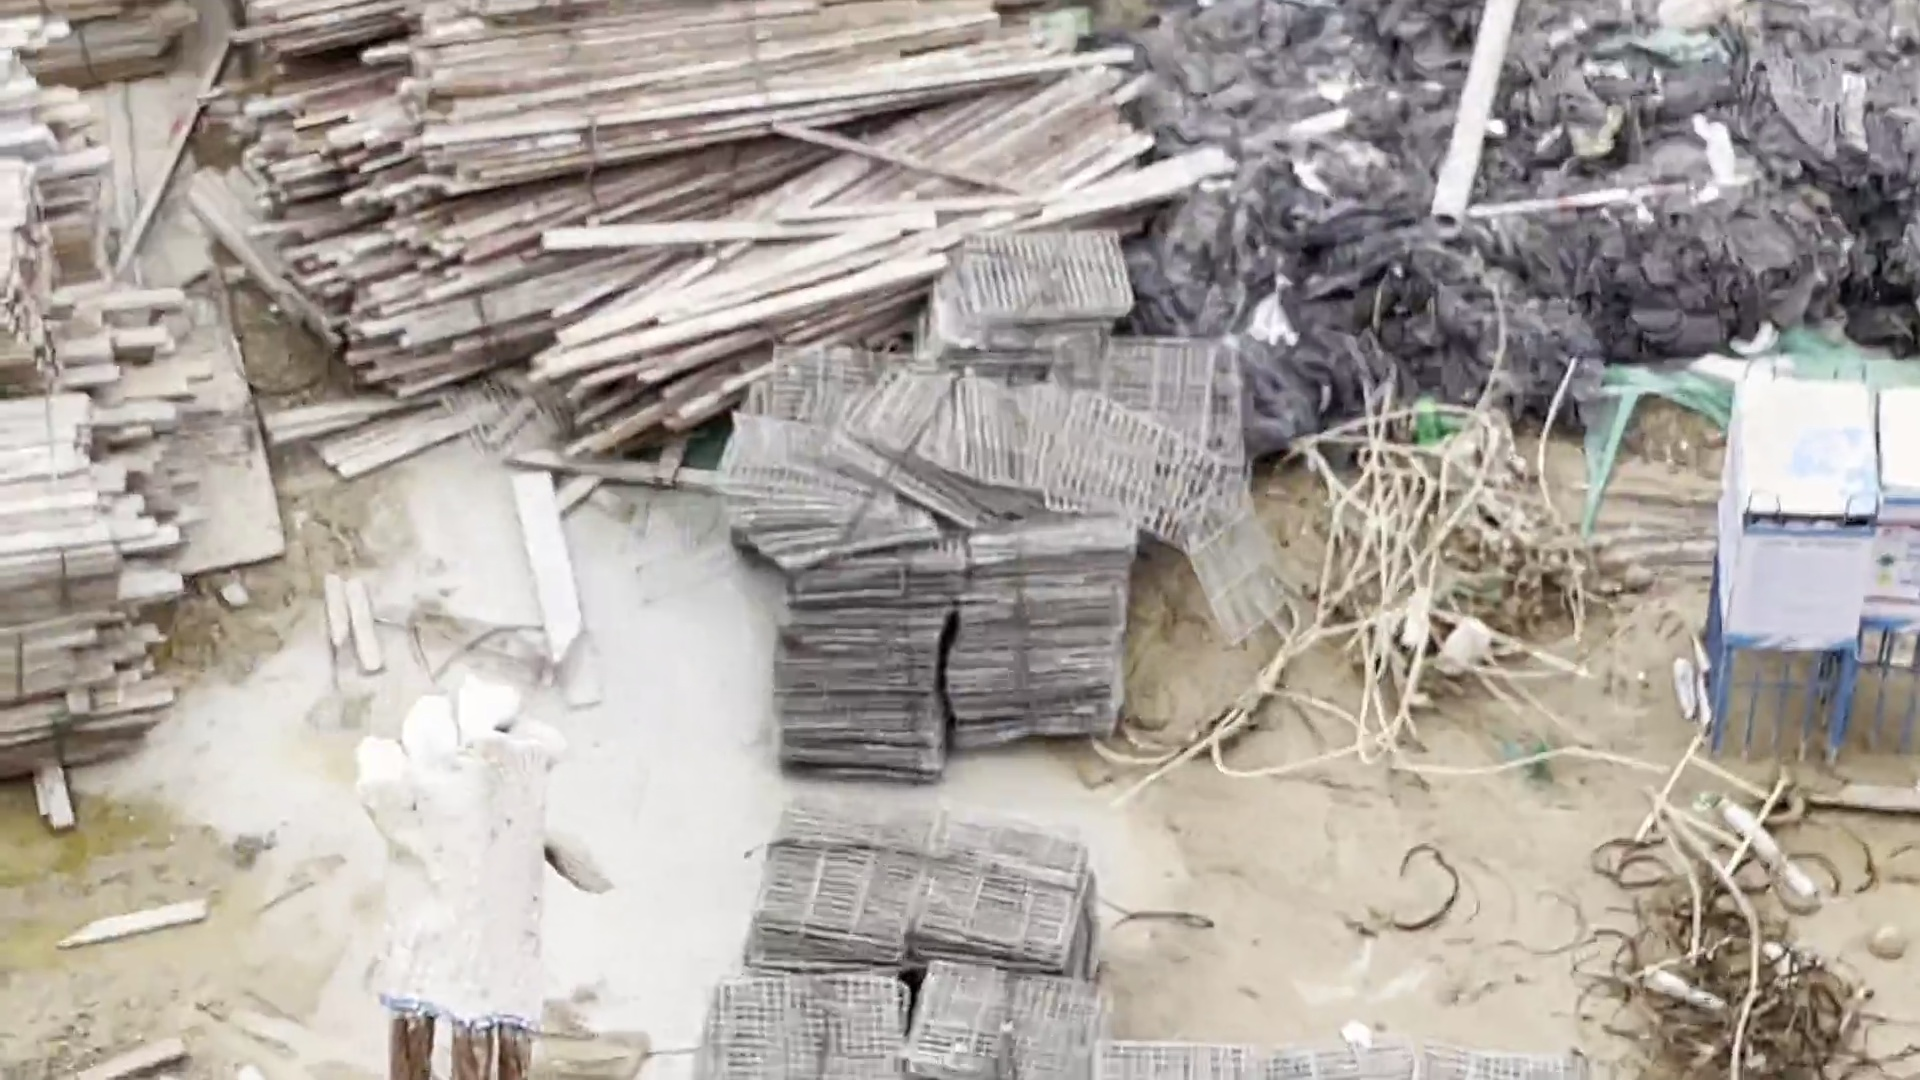wood: (255, 1, 1076, 382), (1, 400, 157, 777), (1, 11, 119, 386), (1, 1, 193, 79)
